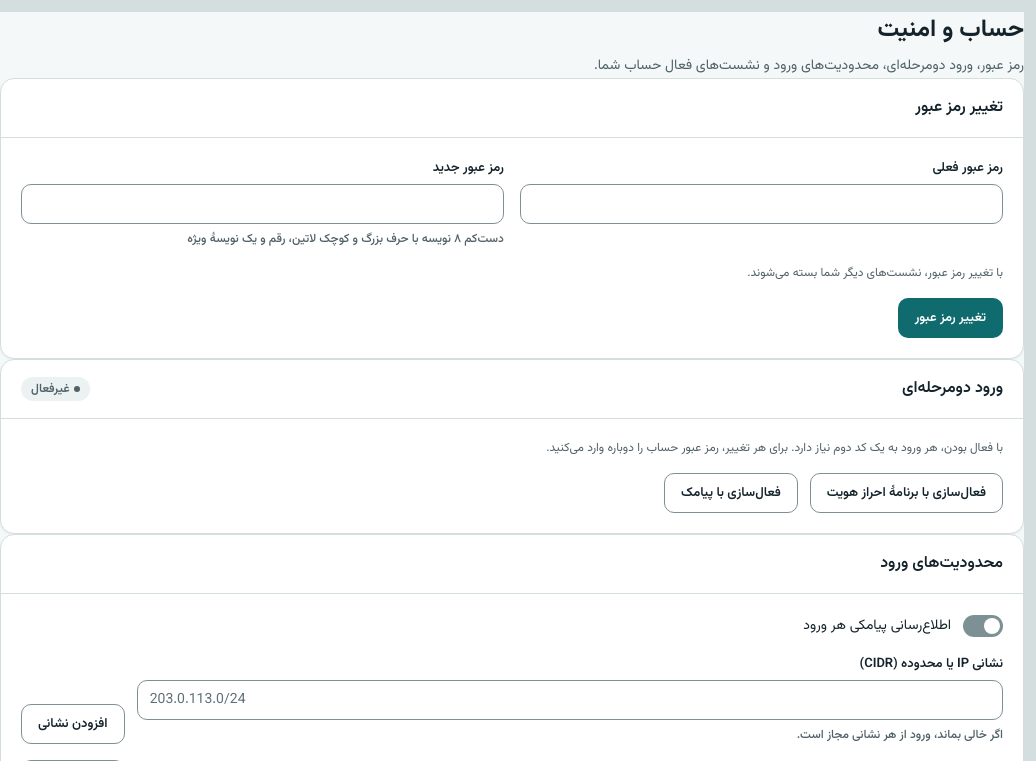
Test case: ProfileSecurity › shows a wrong current password on its field
The image size is (1036, 761).
Type "bad" into the password field labelled "رمز عبور فعلی". click: (762, 204)
box: [520,184,1003,224]
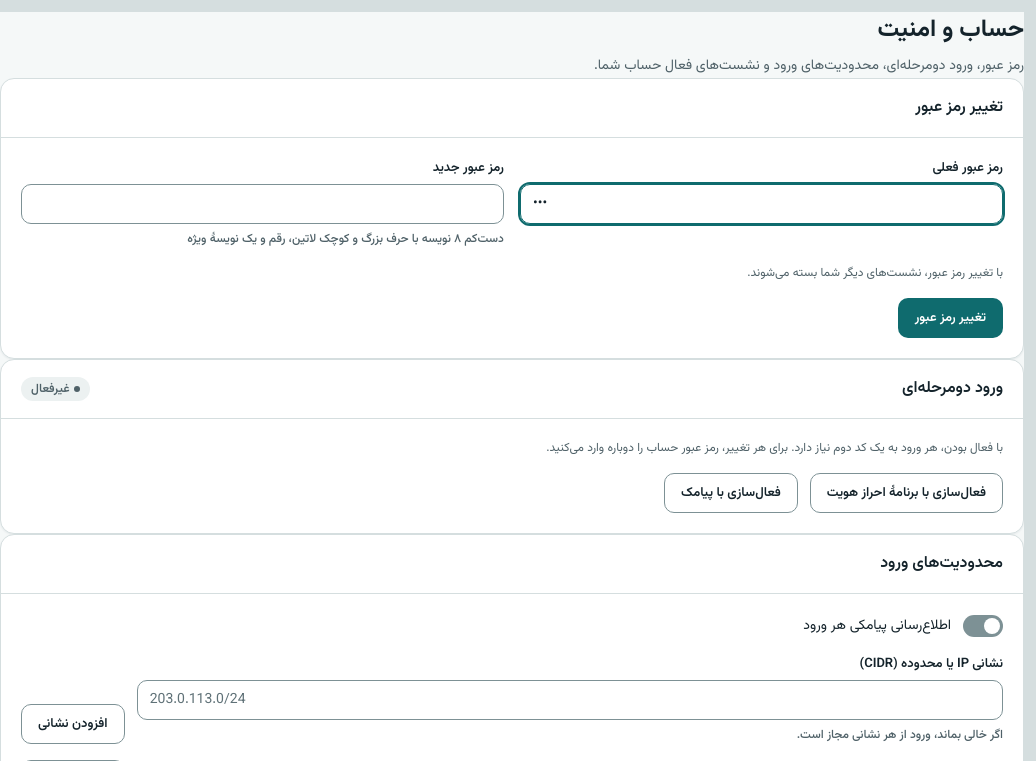
Type "Newpass1!" into the password field labelled "رمز عبور جدید". click: (262, 204)
box: [21,184,504,224]
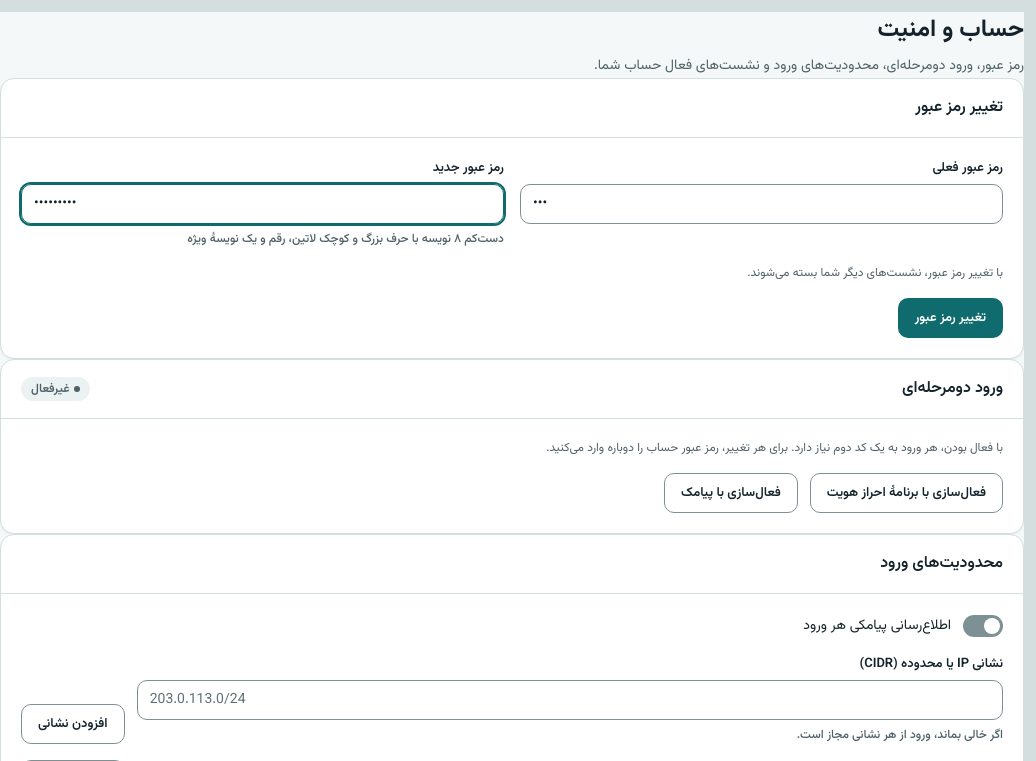
Click the button "تغییر رمز عبور". click: (950, 318)
box: [898,298,1003,338]
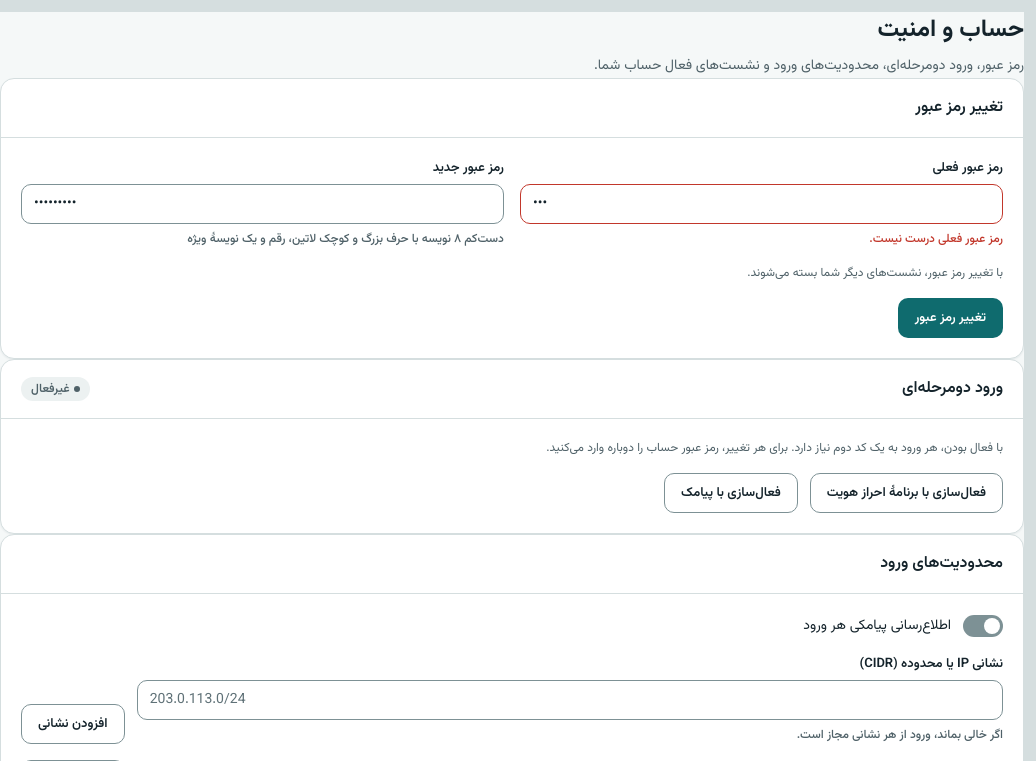
Now the text "رمز عبور فعلی درست نیست." is shown, box [869,230,1003,248]
